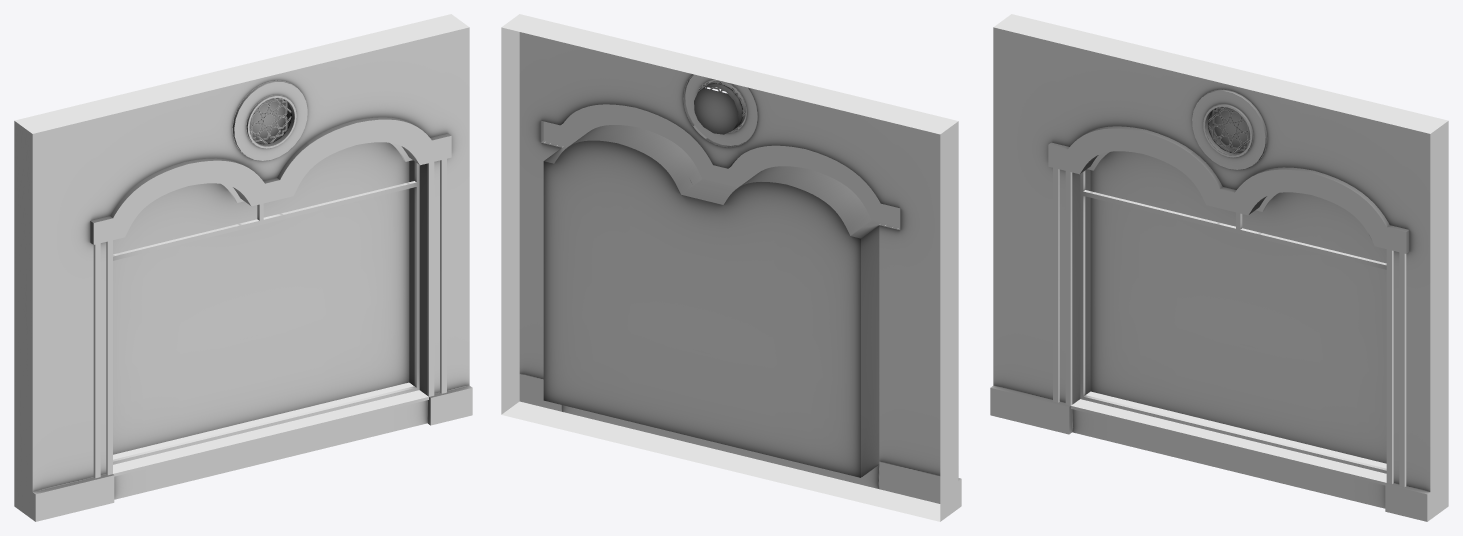
Rendered from floorfirst_1.glb.
3 views of the same model, side by side, from view 1: azimuth 30°, elevation 25°; view 2: azimuth 150°, elevation 25°; view 3: azimuth 330°, elevation 25° (orthographic).
Visible parts, largest first — view 1: floorfirst_1; view 2: floorfirst_1; view 3: floorfirst_1.
Boxes of the visible parts, x1,y1,x2,y2 form: floorfirst_1: [14, 14, 472, 521]; floorfirst_1: [501, 14, 961, 521]; floorfirst_1: [990, 14, 1448, 521].
Size of the model in its own units: 4.15 by 3.5 by 0.35.
Materials: 1 (1 with a texture image).
